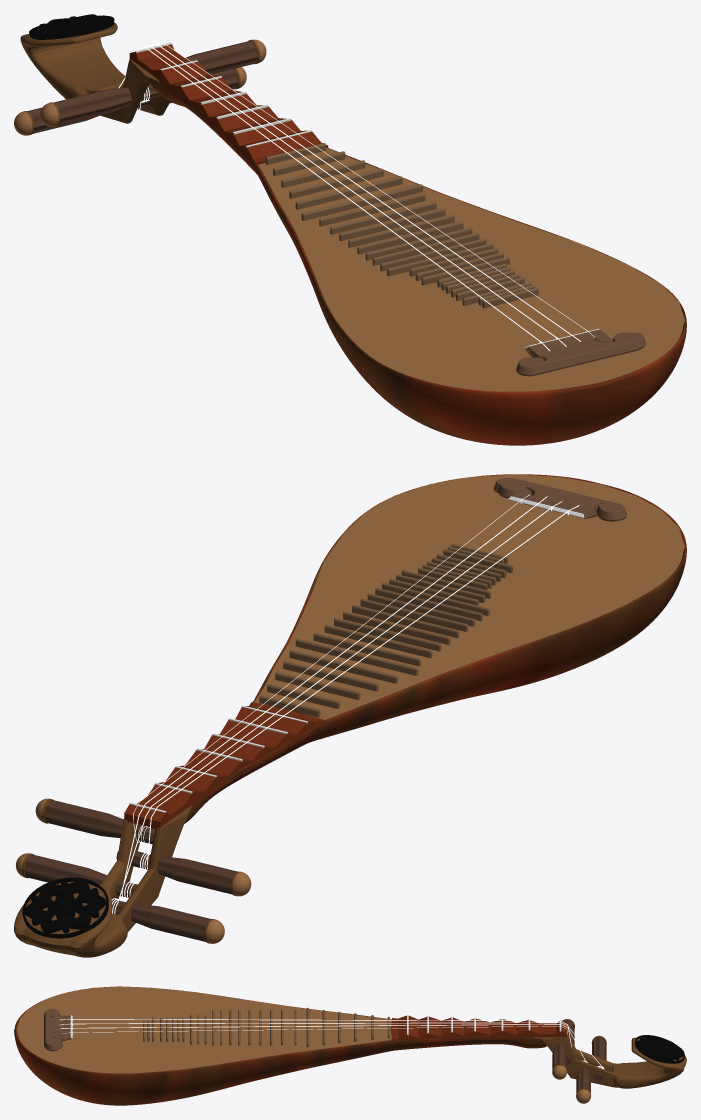
3 renders of one model, top to bottom at view 1: azimuth 30°, elevation 25°; view 2: azimuth 150°, elevation 25°; view 3: azimuth 270°, elevation 25°, orthographic. The views are drawn at different scales.
Parts seen in each view (by area): view 1: 封顶_1.1, 球体_1, 立方体.25, 挤压.1, 立方体_2, 挤压.2, 扫描, 平滑_1_9, 平滑_1_1, 平滑_1_7, 立方体.7; view 2: 封顶_1.1, 立方体.25, 球体_1, 挤压.1, 立方体_2, 平滑_1_1, 扫描, 挤压.2, 平滑_1_7, 平滑_1_9, 平滑_1_10, 平滑_1_8 (+1 smaller); view 3: 封顶_1.1, 球体_1, 挤压.1, 立方体_2, 扫描, 立方体.25, 平滑_1_1, 挤压.2, 平滑_1_10, 平滑_1_8, 平滑_1_7, 立方体.7.
Part boxes in pixels (x1=…): 封顶_1.1: x1=258, y1=148, x2=684, y2=391; 球体_1: x1=150, y1=81, x2=686, y2=445; 立方体.25: x1=265, y1=143, x2=538, y2=308; 挤压.1: x1=129, y1=44, x2=328, y2=170; 立方体_2: x1=20, y1=23, x2=169, y2=123; 挤压.2: x1=516, y1=329, x2=645, y2=376; 扫描: x1=118, y1=42, x2=594, y2=351; 平滑_1_9: x1=53, y1=85, x2=161, y2=125; 平滑_1_1: x1=29, y1=14, x2=114, y2=39; 平滑_1_7: x1=149, y1=41, x2=258, y2=85; 立方体.7: x1=135, y1=42, x2=312, y2=147; 封顶_1.1: x1=254, y1=474, x2=684, y2=719; 立方体.25: x1=259, y1=543, x2=512, y2=717; 球体_1: x1=151, y1=474, x2=686, y2=828; 挤压.1: x1=124, y1=702, x2=324, y2=828; 立方体_2: x1=14, y1=806, x2=191, y2=957; 平滑_1_1: x1=22, y1=877, x2=108, y2=938; 扫描: x1=111, y1=494, x2=579, y2=913; 挤压.2: x1=493, y1=478, x2=626, y2=521; 平滑_1_7: x1=44, y1=800, x2=155, y2=844; 平滑_1_9: x1=116, y1=851, x2=237, y2=894; 平滑_1_10: x1=111, y1=899, x2=211, y2=941; 平滑_1_8: x1=24, y1=855, x2=137, y2=897; 封顶_1.1: x1=16, y1=986, x2=391, y2=1073; 球体_1: x1=14, y1=986, x2=546, y2=1105; 挤压.1: x1=390, y1=1015, x2=567, y2=1043; 立方体_2: x1=530, y1=1028, x2=686, y2=1088; 扫描: x1=59, y1=1018, x2=604, y2=1069; 立方体.25: x1=143, y1=1008, x2=389, y2=1047; 平滑_1_1: x1=634, y1=1035, x2=684, y2=1063; 挤压.2: x1=44, y1=1009, x2=71, y2=1051; 平滑_1_10: x1=592, y1=1037, x2=606, y2=1082; 平滑_1_8: x1=576, y1=1059, x2=590, y2=1093; 平滑_1_7: x1=552, y1=1043, x2=566, y2=1069; 立方体.7: x1=407, y1=1015, x2=561, y2=1035.
Bounding box in the file's own units: 56.09 × 20.69 × 183.
Materials: 19 (2 with a texture image).
